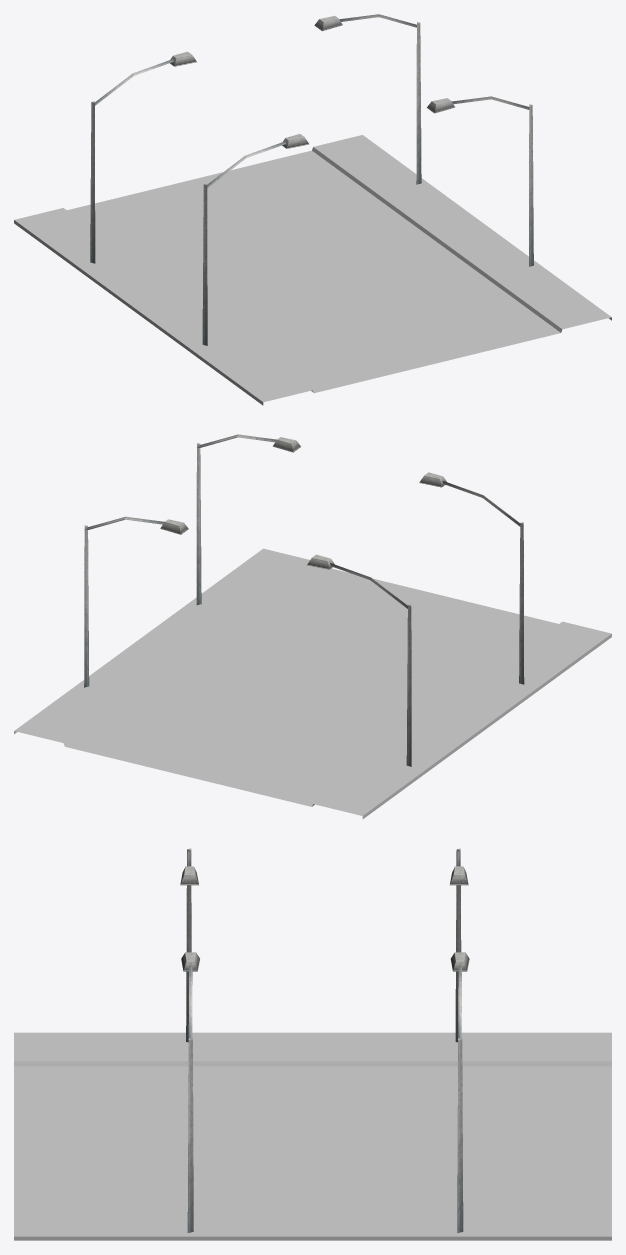
The model's file is Road3_Straight_F.fbx.
3 renders of one model, top to bottom at view 1: azimuth 30°, elevation 25°; view 2: azimuth 150°, elevation 25°; view 3: azimuth 270°, elevation 25°, orthographic. The views are drawn at different scales.
Visible parts, largest first — view 1: Road_Straight_F, LampPost57, LampPost01, LampPost55, LampPost02; view 2: Road_Straight_F, LampPost02, LampPost55, LampPost01, LampPost57; view 3: Road_Straight_F, LampPost02, LampPost01, LampPost57, LampPost55.
Part boxes in pixels (bbox=[...]): Road_Straight_F: bbox=[14, 135, 611, 405]; LampPost57: bbox=[202, 134, 309, 345]; LampPost01: bbox=[314, 14, 421, 184]; LampPost55: bbox=[90, 51, 196, 263]; LampPost02: bbox=[427, 96, 533, 266]; Road_Straight_F: bbox=[14, 548, 611, 818]; LampPost02: bbox=[196, 434, 300, 605]; LampPost55: bbox=[307, 554, 411, 766]; LampPost01: bbox=[84, 516, 188, 687]; LampPost57: bbox=[419, 472, 524, 684]; Road_Straight_F: bbox=[14, 1032, 611, 1240]; LampPost02: bbox=[181, 952, 199, 1232]; LampPost01: bbox=[450, 952, 469, 1232]; LampPost57: bbox=[180, 848, 198, 1042]; LampPost55: bbox=[450, 848, 468, 1042].
Bounding box in the file's own units: 888 × 461 × 1100.
